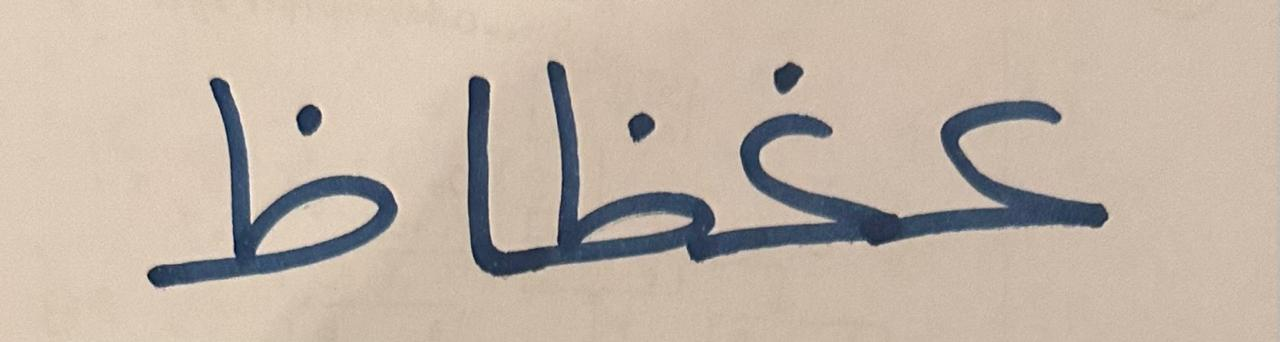ain: (900, 13, 1159, 303)
alef: (424, 19, 517, 296)
ghain: (726, 1, 896, 289)
zain: (79, 6, 420, 319), (521, 25, 723, 299)
